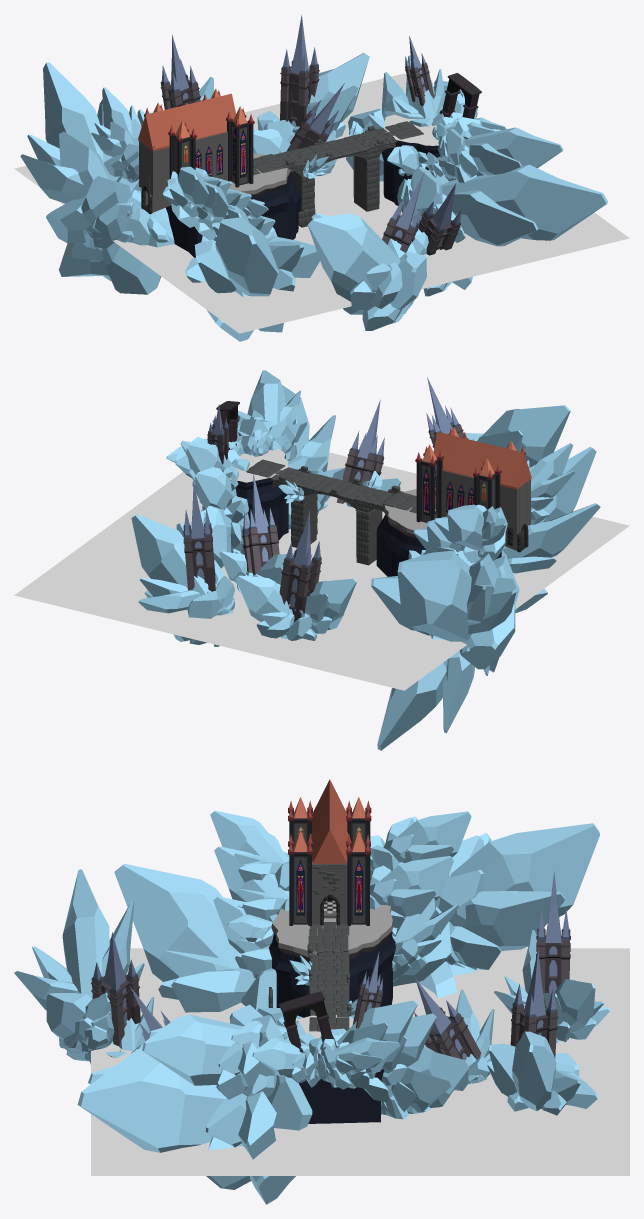
Rendered from LEVEL_NEU_9.fbx.
3 views of the same model, one above another, from view 1: azimuth 30°, elevation 25°; view 2: azimuth 150°, elevation 25°; view 3: azimuth 270°, elevation 25° (orthographic). The views are drawn at different scales.
Parts seen in each view (by area): view 1: Plane, Kristallformation.018, Kristallformation.012, Kristallformation.027, Kristallformation.016, Kristallformation.017, Kristallformation.011, Cube.156, Plateau 8, Kristallformation.020, Cube.007, Kristallformation.010 (+24 smaller); view 2: Plane, Kristallformation.018, Kristallformation.020, Kristallformation.016, Cube.156, Kristallformation.017, Kristallformation.027, Kristallformation.011, Cube.007, Kristallformation.010, Kristallformation.023, Plateau 8 (+22 smaller); view 3: Plane, Kristallformation.012, Kristallformation.018, Kristallformation.016, Kristallformation.027, Kristallformation.011, Plateau 8, Kristallformation.020, Kristallformation.010, Kristallformation.008, Kristallformation.013, Kristallformation.019 (+27 smaller).
Boxes of the visible parts, x1,y1,x2,y2 form: Plane: (14,73,629,333); Kristallformation.018: (20,62,141,251); Kristallformation.012: (397,164,607,289); Kristallformation.027: (307,213,426,330); Kristallformation.016: (185,217,319,341); Kristallformation.017: (59,189,174,294); Kristallformation.011: (438,117,563,183); Cube.156: (273,128,397,227); Plateau 8: (166,153,300,257); Kristallformation.020: (257,53,369,142); Cube.007: (138,93,235,151); Kristallformation.010: (91,87,141,182); Plane: (14,452,629,690); Kristallformation.018: (371,550,519,669); Kristallformation.020: (131,514,234,646); Kristallformation.016: (501,447,600,612); Cube.156: (270,467,394,565); Kristallformation.017: (377,650,499,750); Kristallformation.027: (465,405,570,467); Kristallformation.011: (212,370,306,460); Cube.007: (433,432,531,489); Kristallformation.010: (434,504,507,562); Kristallformation.023: (235,574,311,640); Plateau 8: (376,489,501,576); Plane: (91,948,629,1175); Kristallformation.012: (77,1048,312,1204); Kristallformation.018: (435,823,600,970); Kristallformation.016: (114,864,276,1012); Kristallformation.027: (14,869,144,1064); Kristallformation.011: (142,1004,281,1099); Plateau 8: (269,904,395,1017); Kristallformation.020: (487,1031,598,1115); Kristallformation.010: (370,811,471,876); Kristallformation.008: (370,856,453,928); Kristallformation.013: (381,1046,468,1119); Kristallformation.019: (210,810,289,890).
Size of the model in its own units: 45672 by 23591 by 45983.
